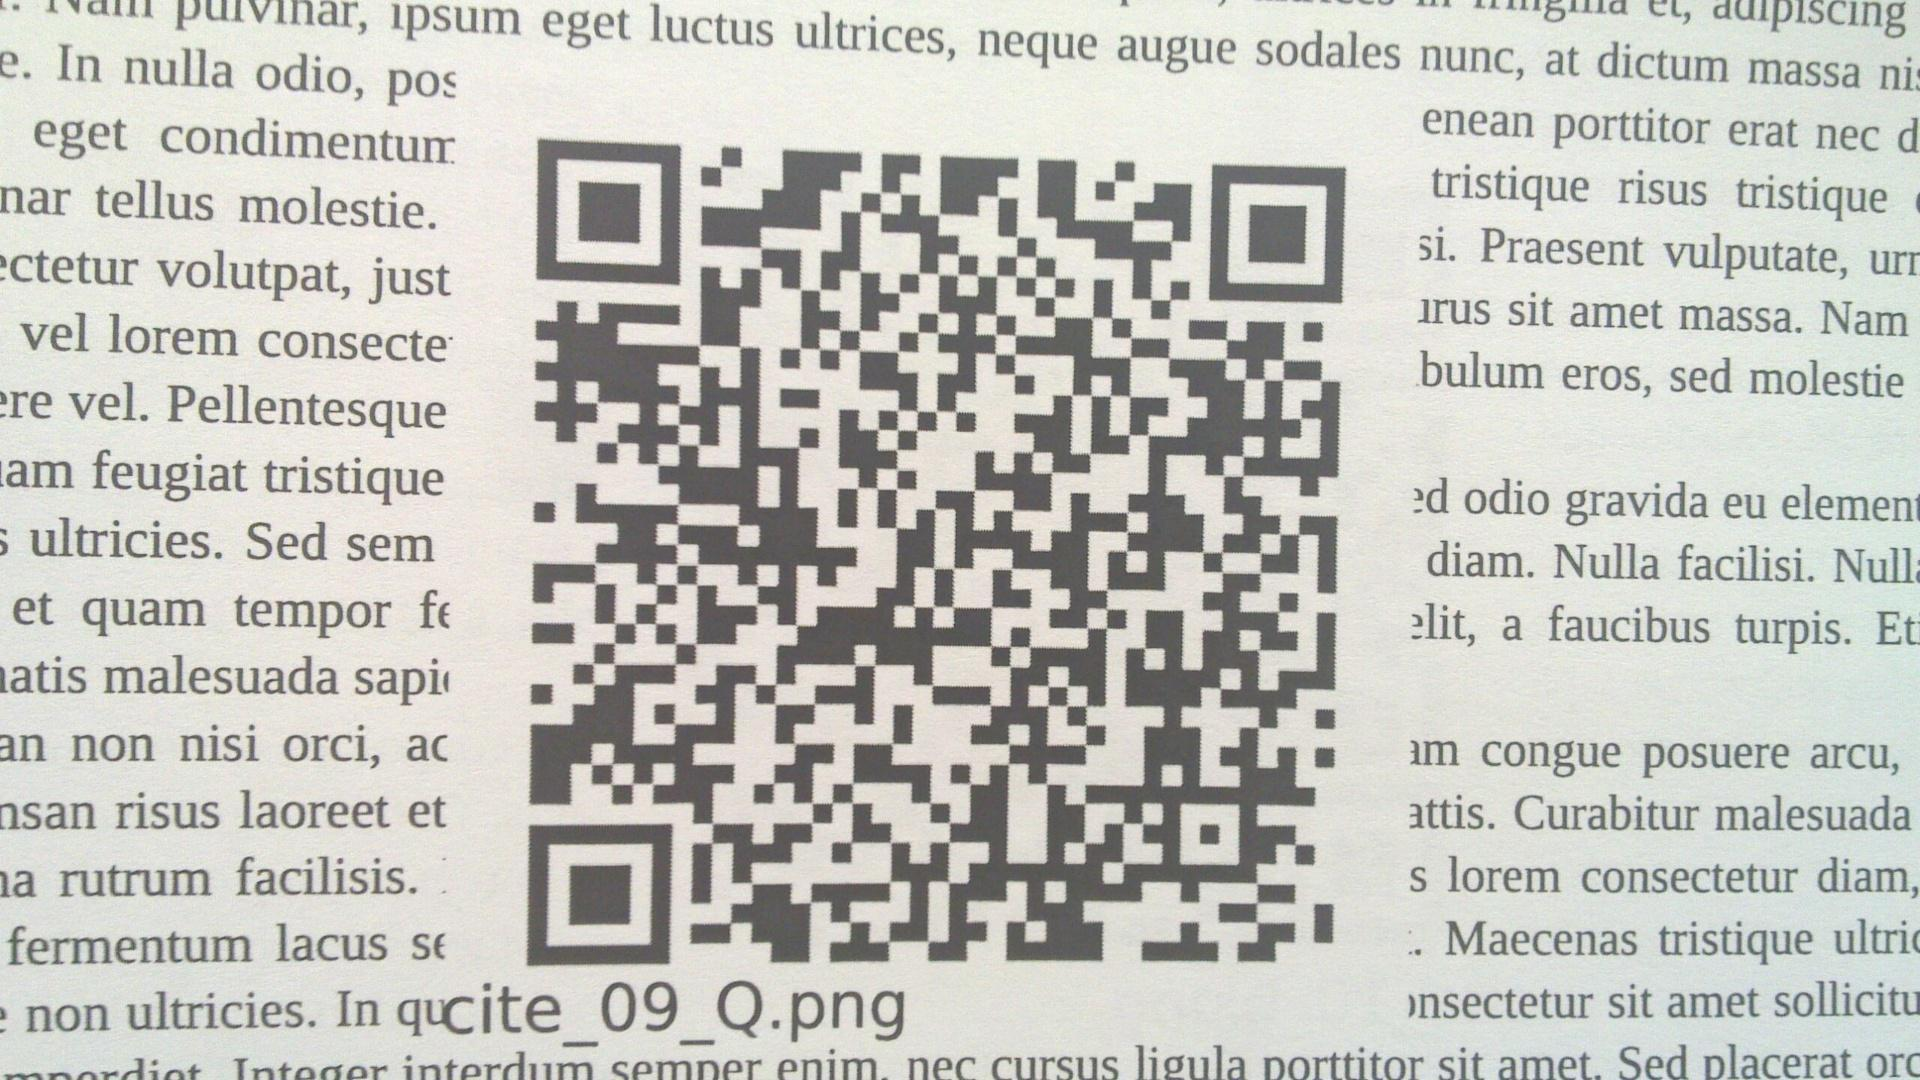qr_code: (527, 138, 1346, 969)
